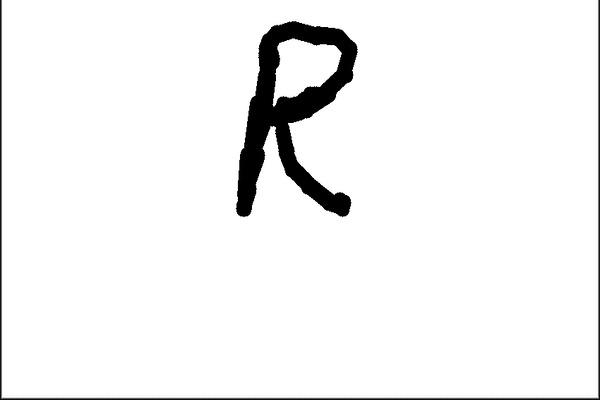R: (221, 13, 369, 232)
